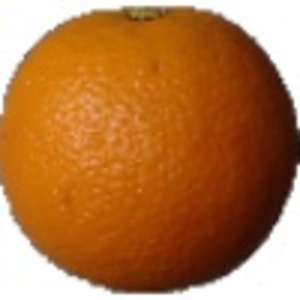laranja: (3, 3, 296, 297)
